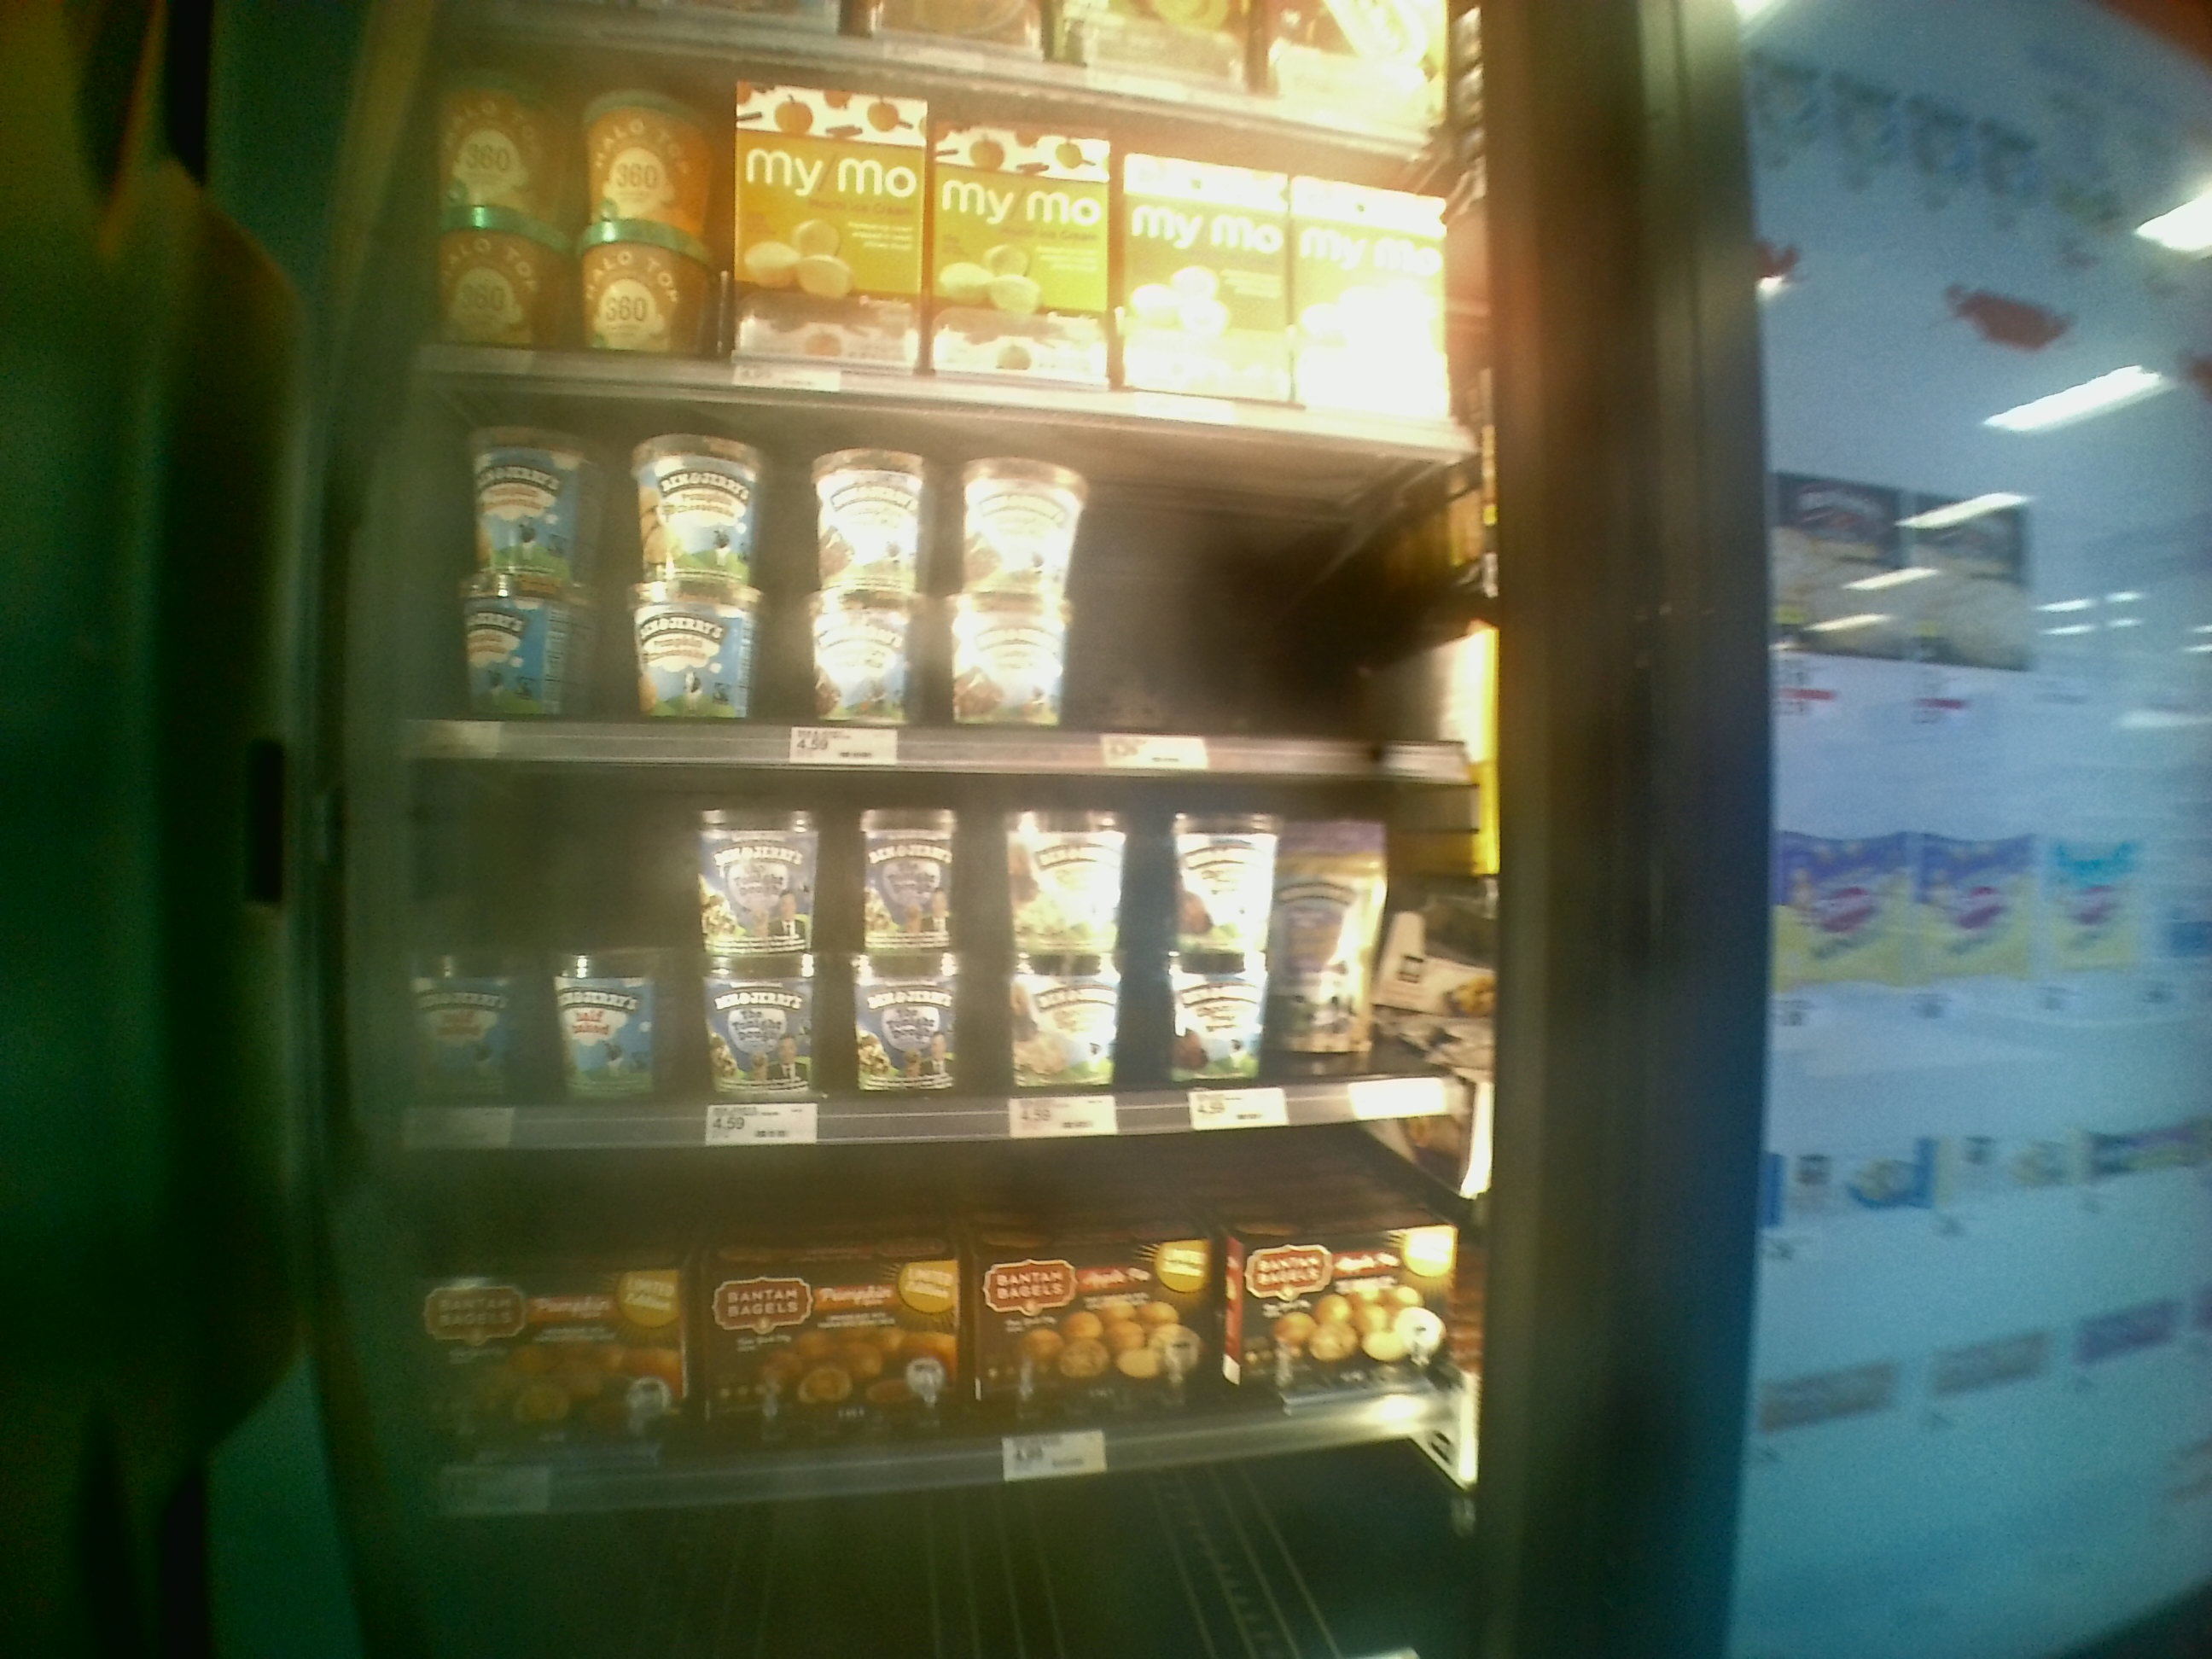shelf: (307, 359, 1480, 769), (294, 732, 1470, 1096), (341, 1110, 1444, 1452)
